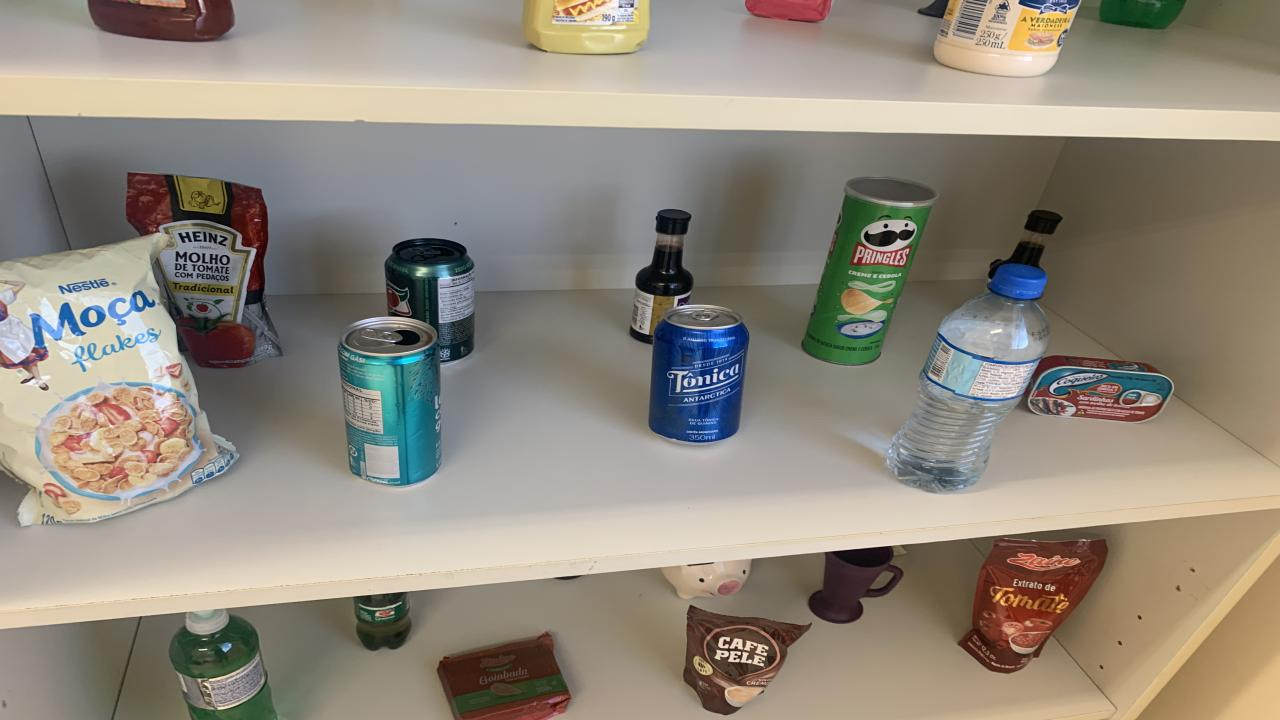Coffee-Pantry_Items: (682, 606, 810, 714)
Detergent-Cleanup_Items: (170, 609, 278, 720), (1100, 0, 1185, 30)
English_Sauce-Pantry_Items: (630, 210, 692, 343), (988, 210, 1062, 278)
Flakes-Snacks: (0, 234, 238, 525)
Guarana-Drinks: (355, 592, 412, 651)
Guarana_Can-Drinks: (385, 238, 475, 364)
Guava-Snacks: (438, 632, 570, 720)
Ketchup-Pantry_Items: (88, 0, 235, 41)
Mayonnaise-Pantry_Items: (935, 0, 1080, 77)
Mustard-Pantry_Items: (522, 0, 650, 54)
Pig_Safe-Miscellaneous: (660, 559, 752, 600)
Pringles-Snacks: (802, 176, 938, 366)
Soap-Cleanup_Items: (745, 0, 832, 22)
Tea-Drinks: (338, 317, 440, 486)
Tomato_Sauce-Pantry_Items: (128, 172, 282, 368), (958, 538, 1108, 673)
Tonic-Drinks: (650, 304, 750, 444)
Tuna_Can-Pantry_Items: (1028, 354, 1172, 422)
Water_Bottle-Drinks: (888, 264, 1050, 493)
